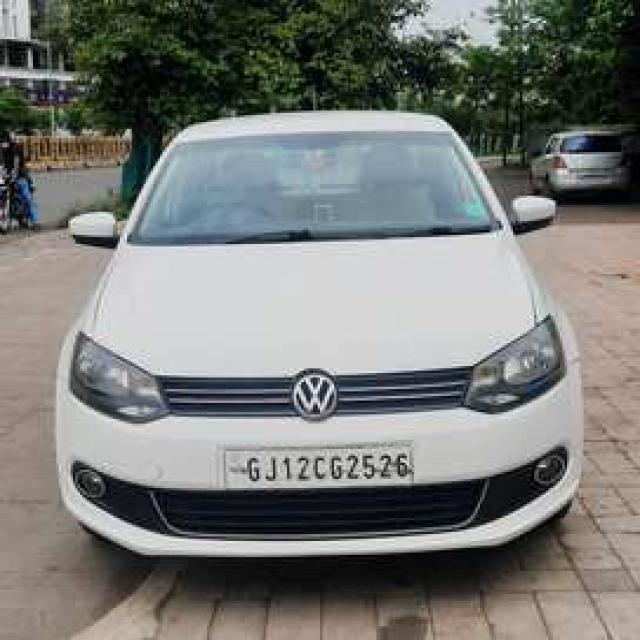Plate: (220, 443, 413, 487)
